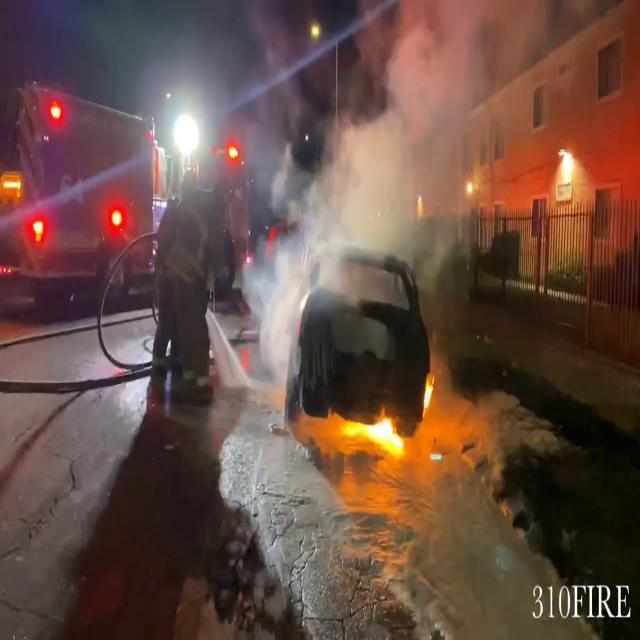Fire: (331, 403, 408, 456), (420, 368, 436, 420)
Smoke: (255, 1, 493, 374)
